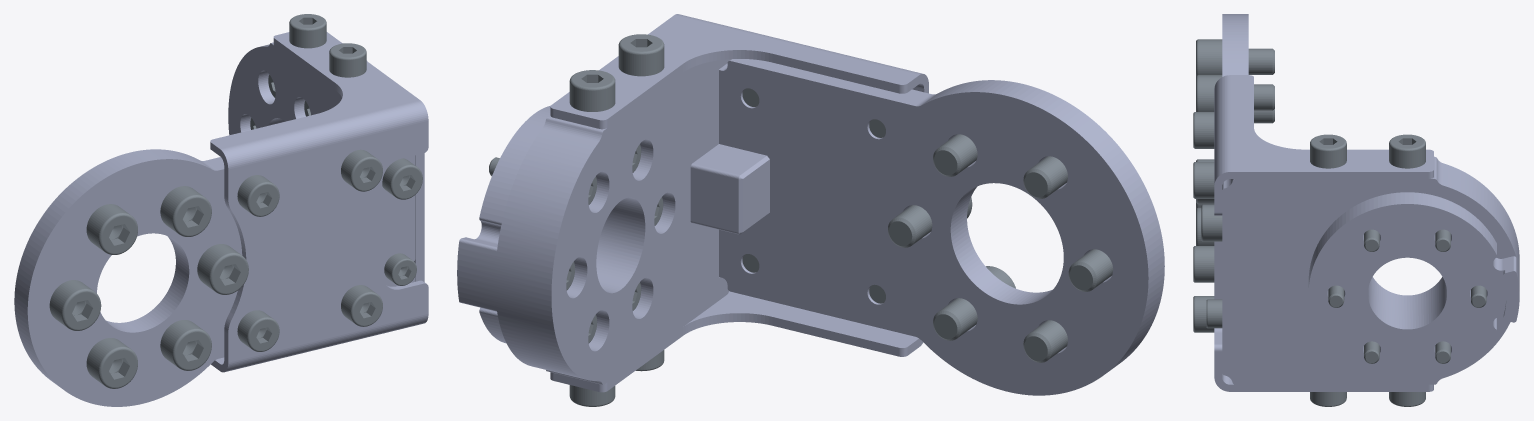
File: right_arm_l2.glb
3 views of the same model, side by side, from view 1: azimuth 30°, elevation 25°; view 2: azimuth 150°, elevation 25°; view 3: azimuth 270°, elevation 25° (orthographic). The views are drawn at different scales.
Parts seen in each view (by area): view 1: world; view 2: world; view 3: world.
Part boxes in pixels (x1,y1,x2,y2): world: (14, 14, 428, 406); world: (457, 14, 1164, 406); world: (1193, 14, 1519, 406).
Bounding box in the file's own units: 94.75 × 54 × 61.85.
